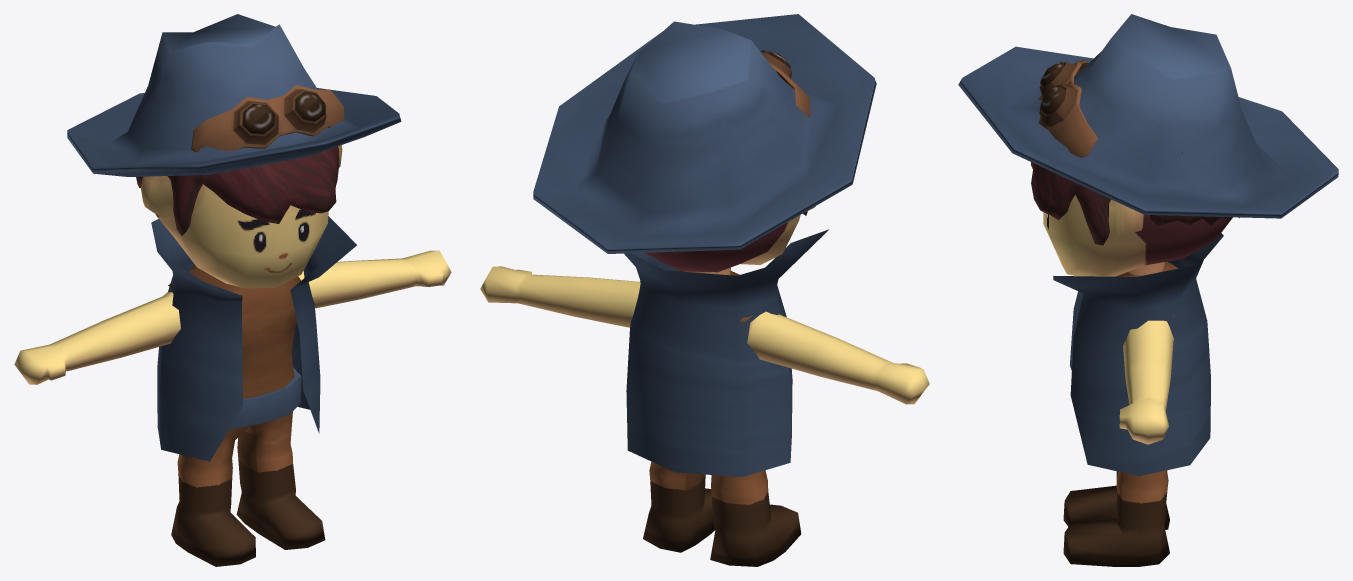
File: CharecterRange_Base.fbx
3 renders of one model, left to right at view 1: azimuth 30°, elevation 25°; view 2: azimuth 150°, elevation 25°; view 3: azimuth 270°, elevation 25°, orthographic. The views are drawn at different scales.
Visible parts, largest first — view 1: pCube24, pPlane4, polySurface3345, polySurface3348, polySurface3333, polySurface3346, pCube29, polySurface3344, polySurface3347, polySurface3343; view 2: pCube24, pPlane4, polySurface3345, polySurface3346, polySurface3347, polySurface3348, pCube29; view 3: pCube24, pPlane4, polySurface3345, polySurface3348, polySurface3347, pCube29, polySurface3333, polySurface3344.
Boxes of the visible parts, x1=… form: pCube24: x1=67, y1=14, x2=401, y2=176; pPlane4: x1=151, y1=216, x2=356, y2=461; polySurface3345: x1=171, y1=412, x2=325, y2=566; polySurface3348: x1=141, y1=145, x2=342, y2=288; polySurface3333: x1=136, y1=146, x2=339, y2=235; polySurface3346: x1=14, y1=292, x2=180, y2=384; pCube29: x1=191, y1=85, x2=344, y2=152; polySurface3344: x1=168, y1=265, x2=301, y2=398; polySurface3347: x1=298, y1=250, x2=451, y2=308; polySurface3343: x1=229, y1=368, x2=301, y2=429; pCube24: x1=533, y1=14, x2=876, y2=253; pPlane4: x1=624, y1=229, x2=828, y2=477; polySurface3345: x1=643, y1=461, x2=801, y2=566; polySurface3346: x1=747, y1=311, x2=929, y2=404; polySurface3347: x1=480, y1=266, x2=640, y2=327; polySurface3348: x1=645, y1=206, x2=815, y2=272; pCube29: x1=761, y1=50, x2=810, y2=117; pCube24: x1=958, y1=14, x2=1338, y2=218; pPlane4: x1=1053, y1=233, x2=1223, y2=476; polySurface3345: x1=1063, y1=470, x2=1169, y2=566; polySurface3348: x1=1043, y1=195, x2=1232, y2=276; polySurface3347: x1=1119, y1=320, x2=1174, y2=444; pCube29: x1=1038, y1=59, x2=1097, y2=157; polySurface3333: x1=1031, y1=152, x2=1239, y2=245; polySurface3344: x1=1115, y1=261, x2=1178, y2=315.
Bounding box in the file's own units: 6.43 × 7.15 × 4.88.
